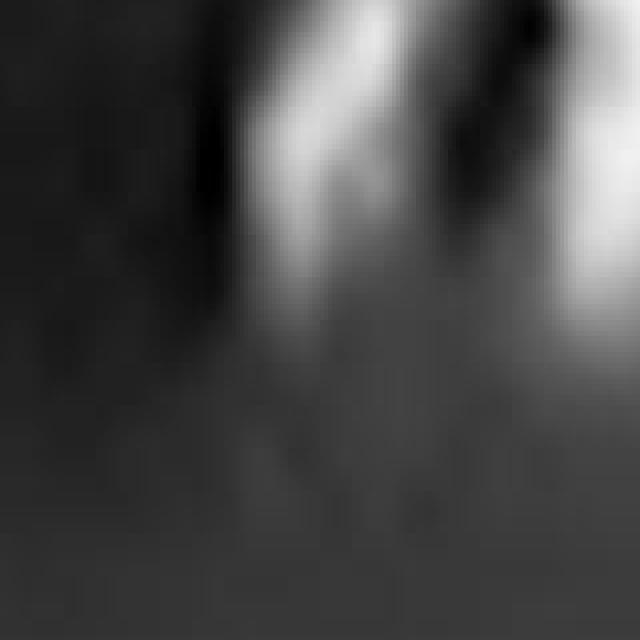person: (233, 1, 425, 390), (537, 1, 640, 390)
